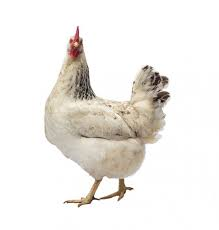chicken: (34, 18, 178, 220)
